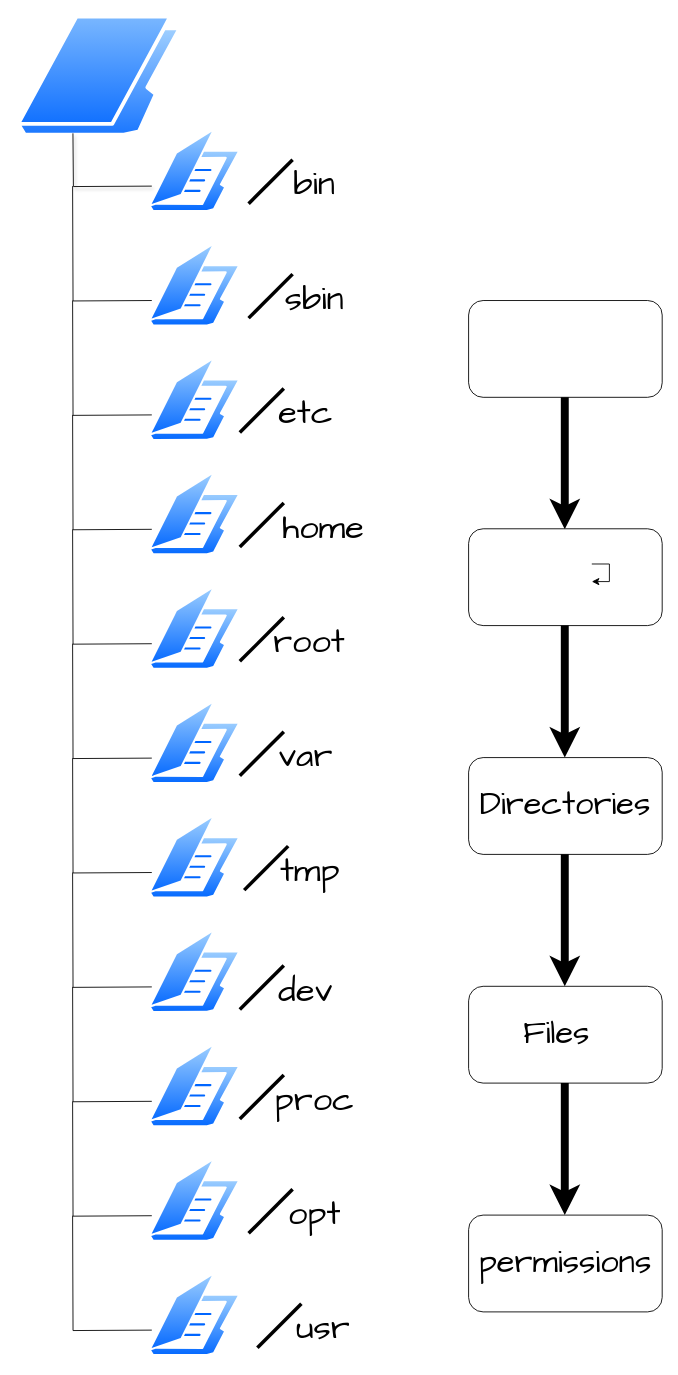
This 678x1375 diagram has some shape labels left out. The centre of each missing label's shape, as x and y in pixels:
"FileSystem" goes at point 565,577.
"kernel" goes at point 565,348.
